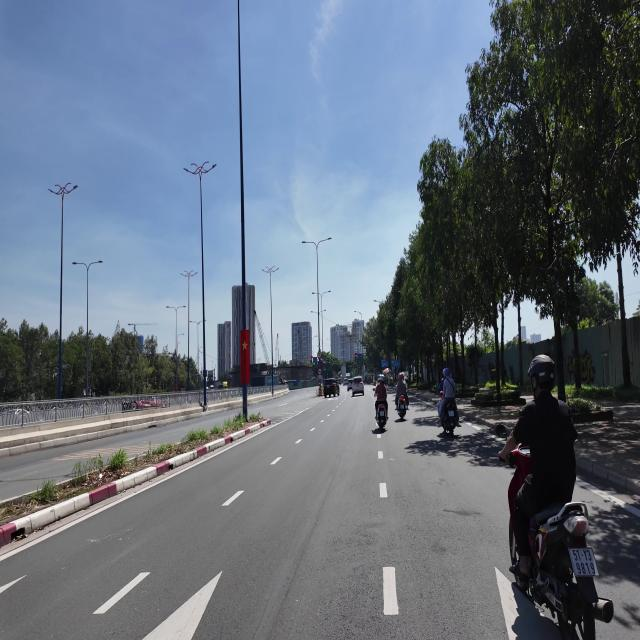car: (324, 379, 338, 397), (352, 376, 364, 396), (347, 379, 353, 391)
motorcycle: (516, 503, 613, 639), (441, 399, 459, 435), (376, 402, 388, 429), (397, 395, 406, 419)
